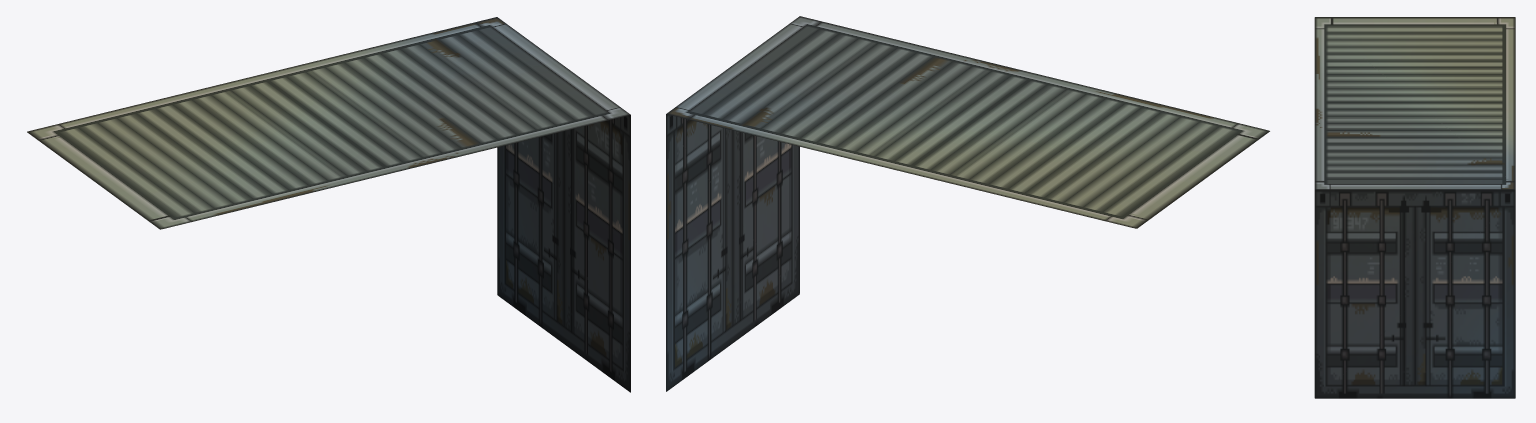
The model's file is Container.fbx.
3 renders of one model, left to right at view 1: azimuth 30°, elevation 25°; view 2: azimuth 150°, elevation 25°; view 3: azimuth 270°, elevation 25°, orthographic. The views are drawn at different scales.
Parts seen in each view (by area): view 1: container; view 2: container; view 3: container.
Part boxes in pixels (<box>): container: <box>27,17,630,392</box>; container: <box>666,16,1269,391</box>; container: <box>1314,17,1515,398</box>.
Bounding box in the file's own units: 231 × 135 × 118.
Materials: 1 (1 with a texture image).
